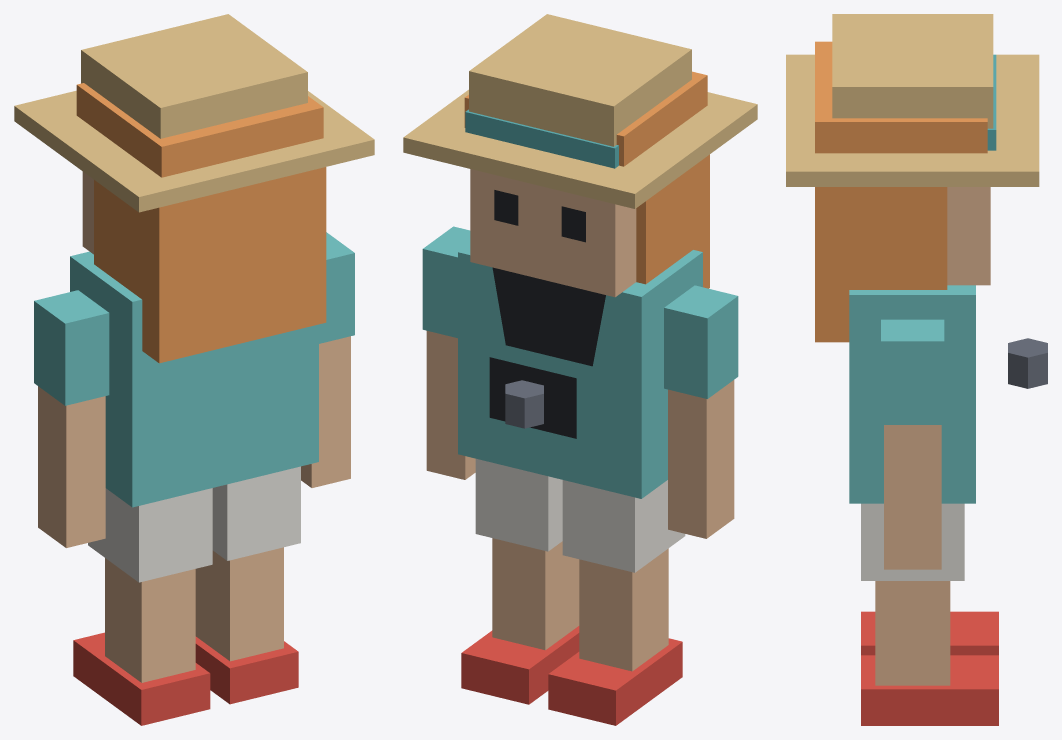
File: H_TouristW.fbx
3 renders of one model, left to right at view 1: azimuth 30°, elevation 25°; view 2: azimuth 150°, elevation 25°; view 3: azimuth 270°, elevation 25°, orthographic. The views are drawn at different scales.
Visible parts, largest first — view 1: H_TouristW; view 2: H_TouristW; view 3: H_TouristW.
Boxes of the visible parts, x1=… form: H_TouristW: x1=14, y1=14, x2=374, y2=725; H_TouristW: x1=403, y1=14, x2=757, y2=725; H_TouristW: x1=786, y1=14, x2=1047, y2=725.
Bounding box in the file's own units: 0.59 × 1.22 × 0.4546.
